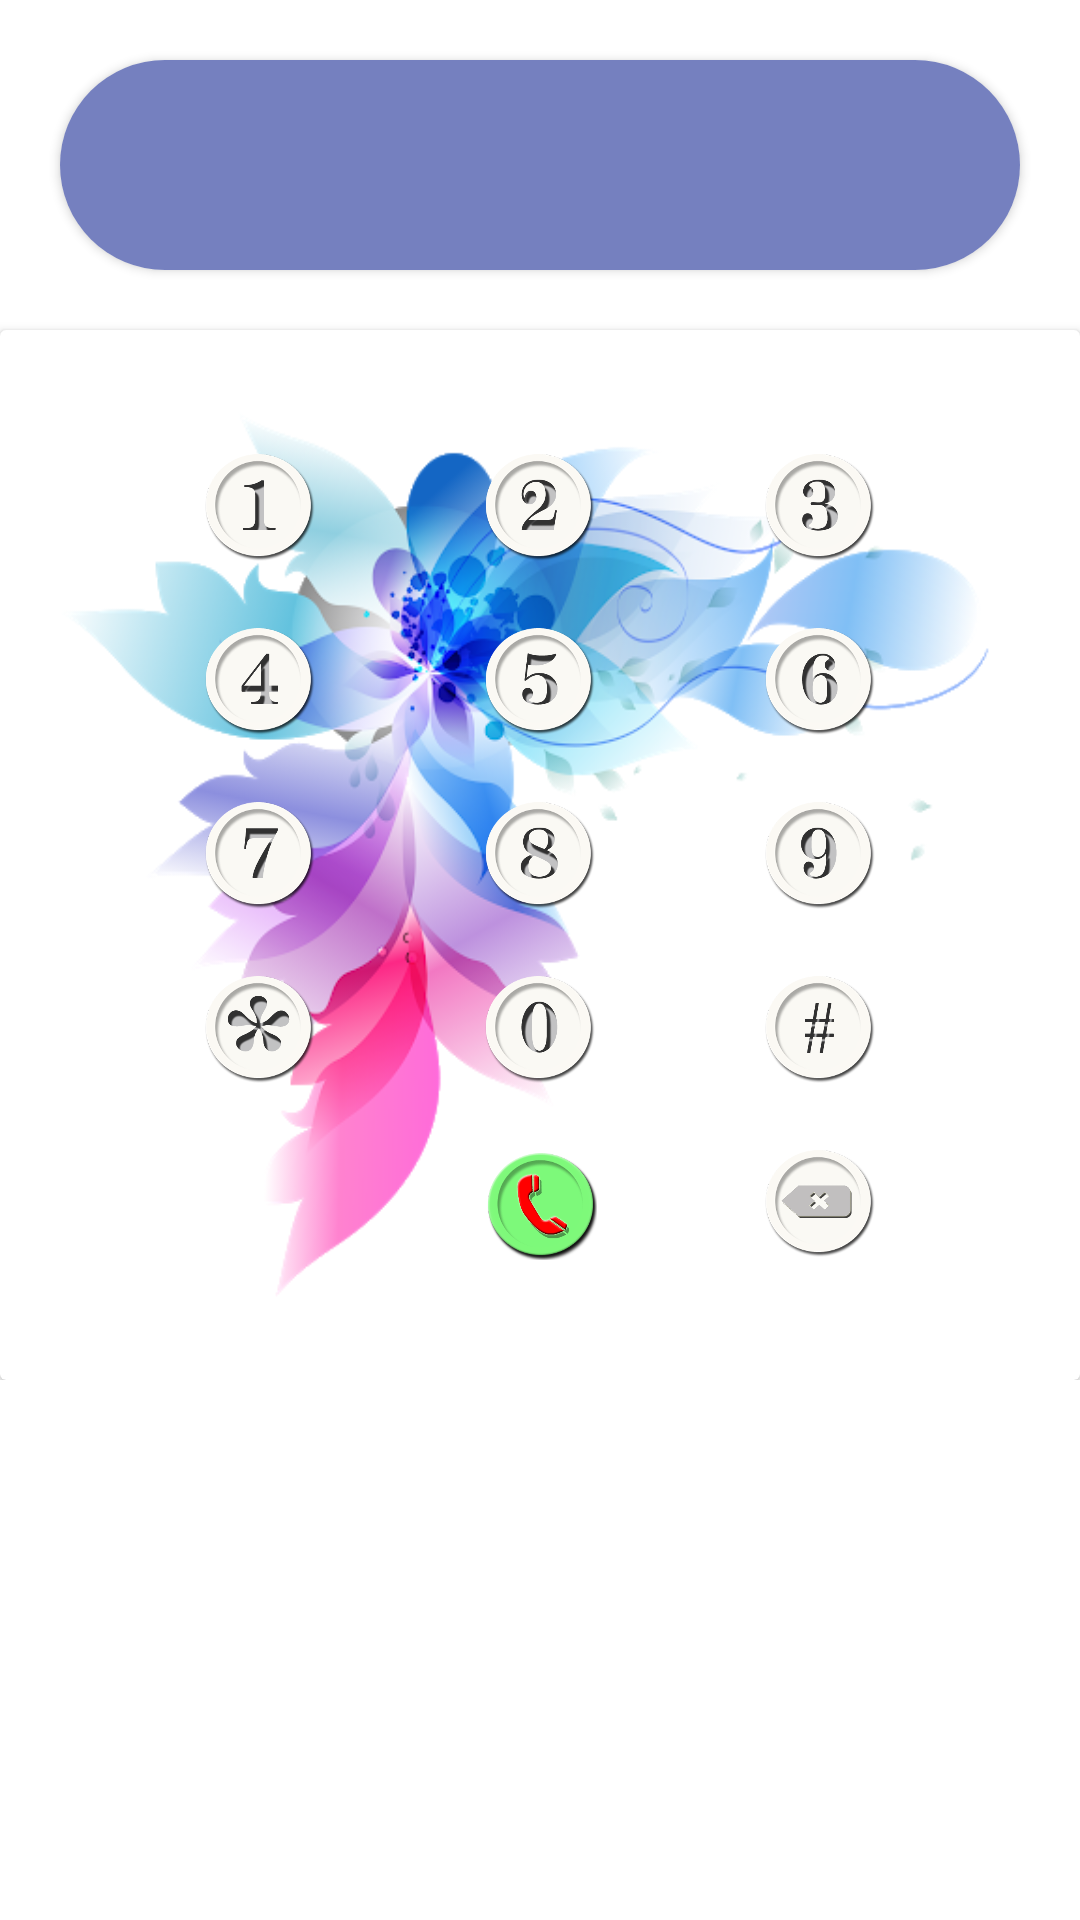

Locate icon controls on the screen. Image size 1080x1920, boxes as detection(x1, y1, x2, y2).
back: detection(765, 1150, 874, 1257)
hash: detection(765, 976, 874, 1083)
phone call: detection(488, 1153, 597, 1260)
